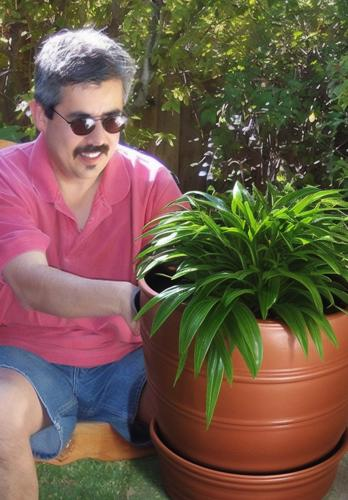person: (2, 29, 195, 500)
person/hand: (125, 283, 191, 364)
person/head: (33, 31, 137, 180)
pottedplant: (130, 181, 347, 500)
